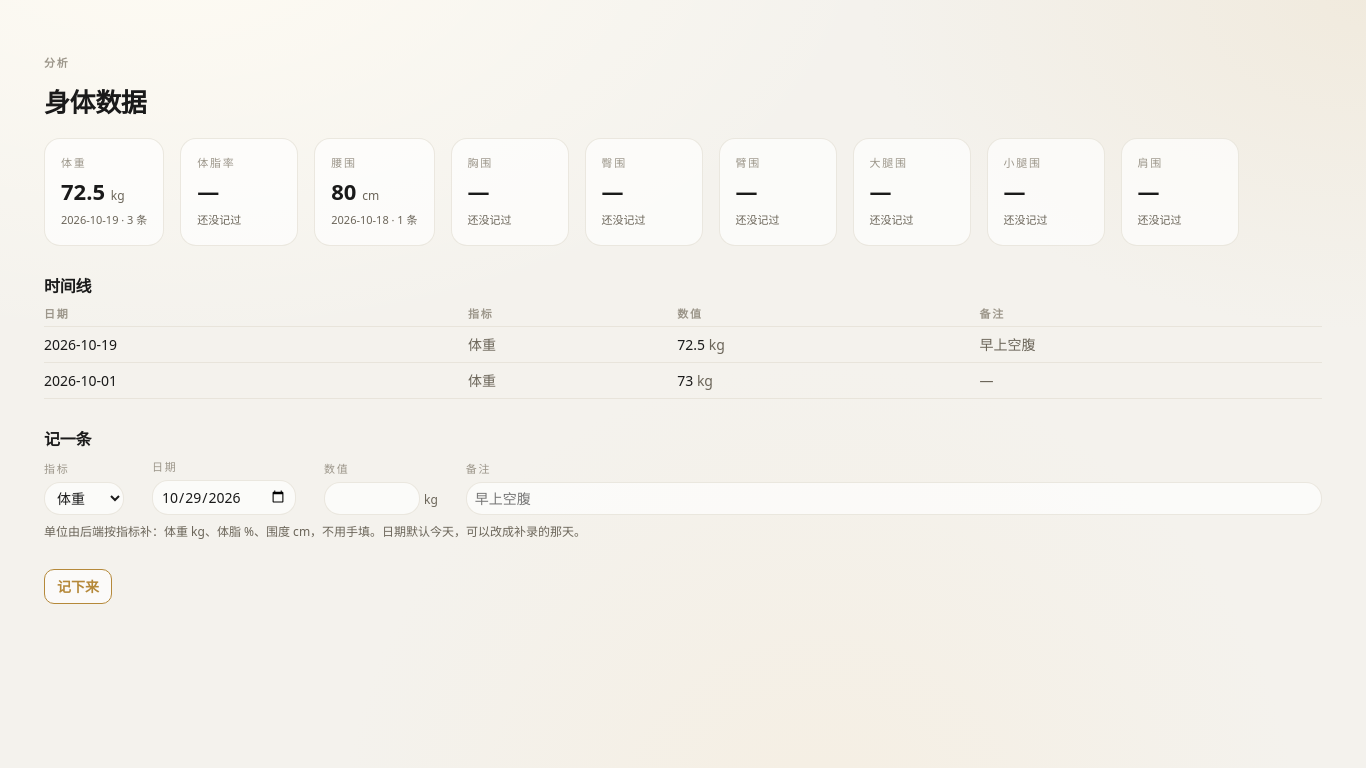
Test: 身体数据页 · 录入 › negative_values_are_stopped_before_the_request
This screenshot has width=1366, height=768.
Type "-5" into the field labelled "数值 kg" at (372, 498), box [324,482,420,514]
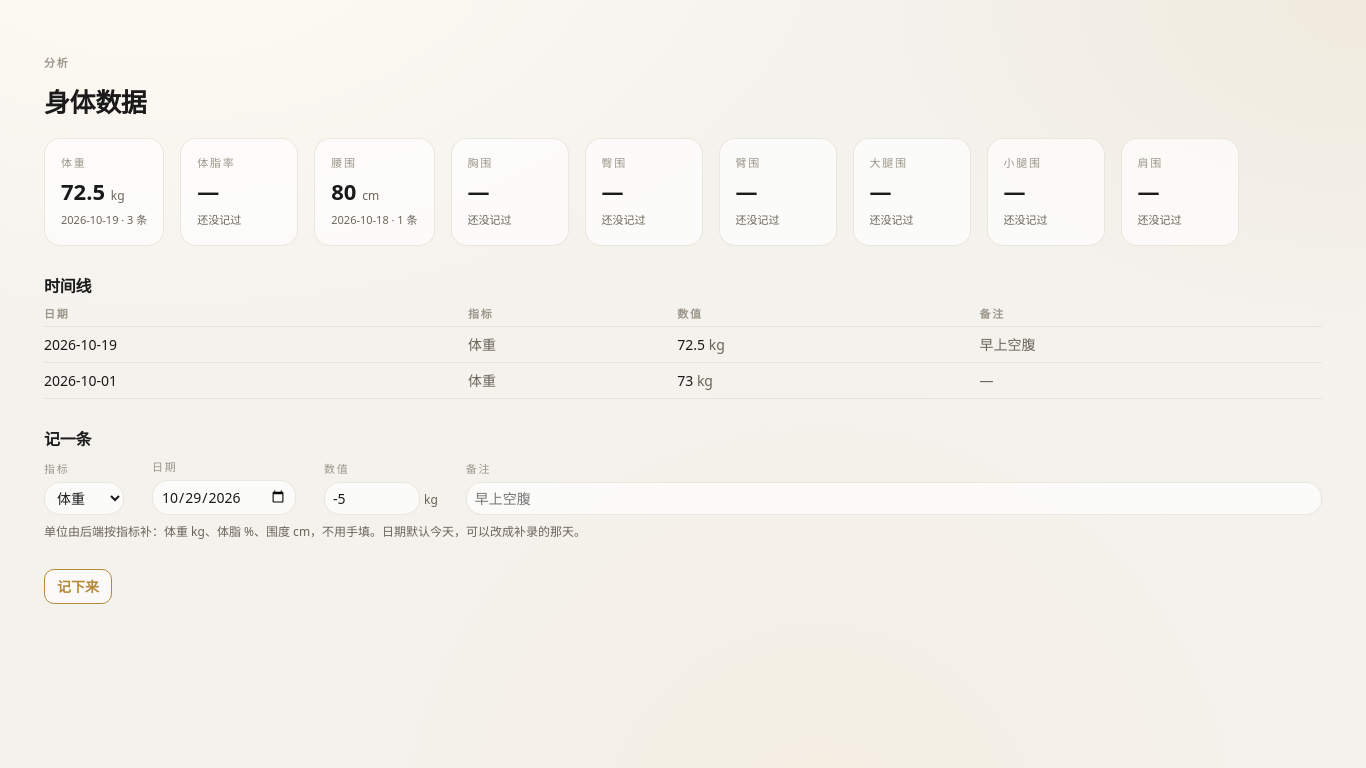
Click the button with class "save" at (78, 586), box [44,568,112,604]
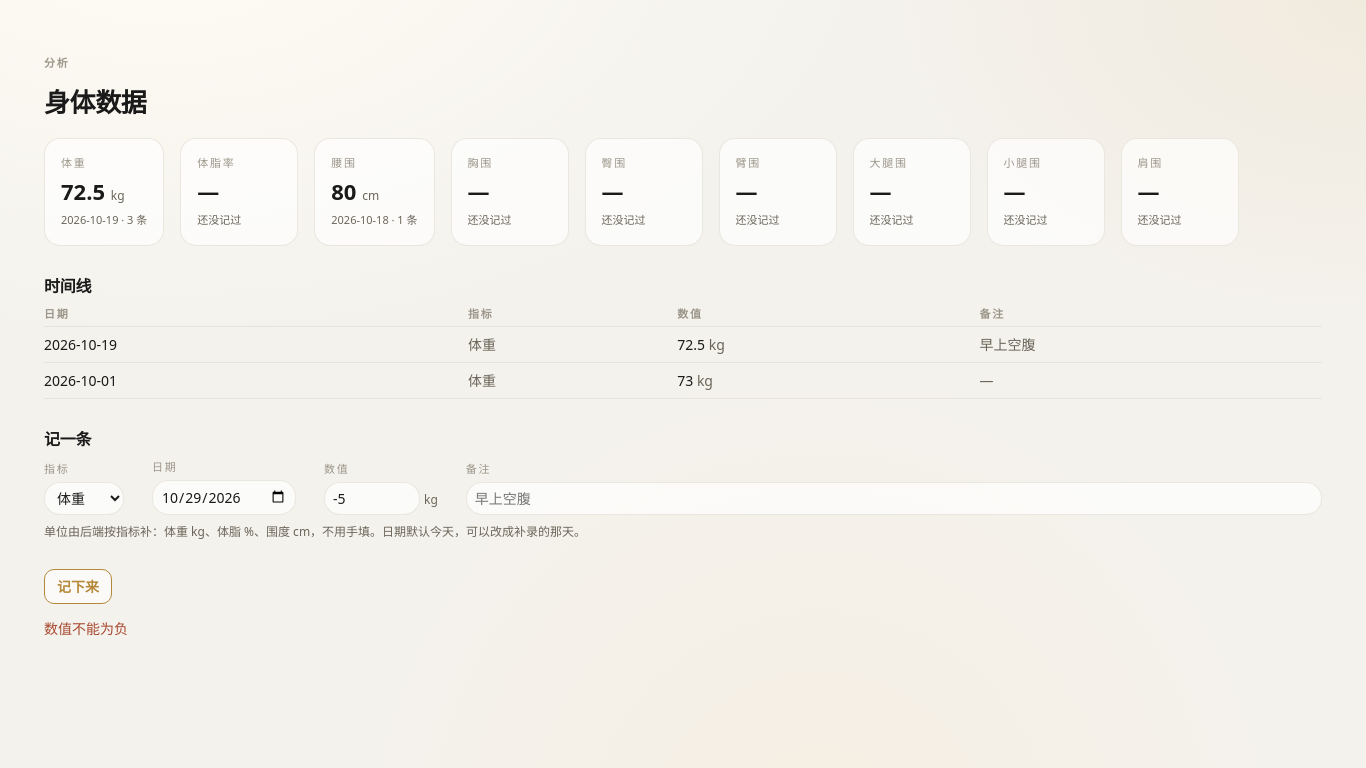
Expected: the text with class "save-error" shows "不能为负", [44,618,128,638]
